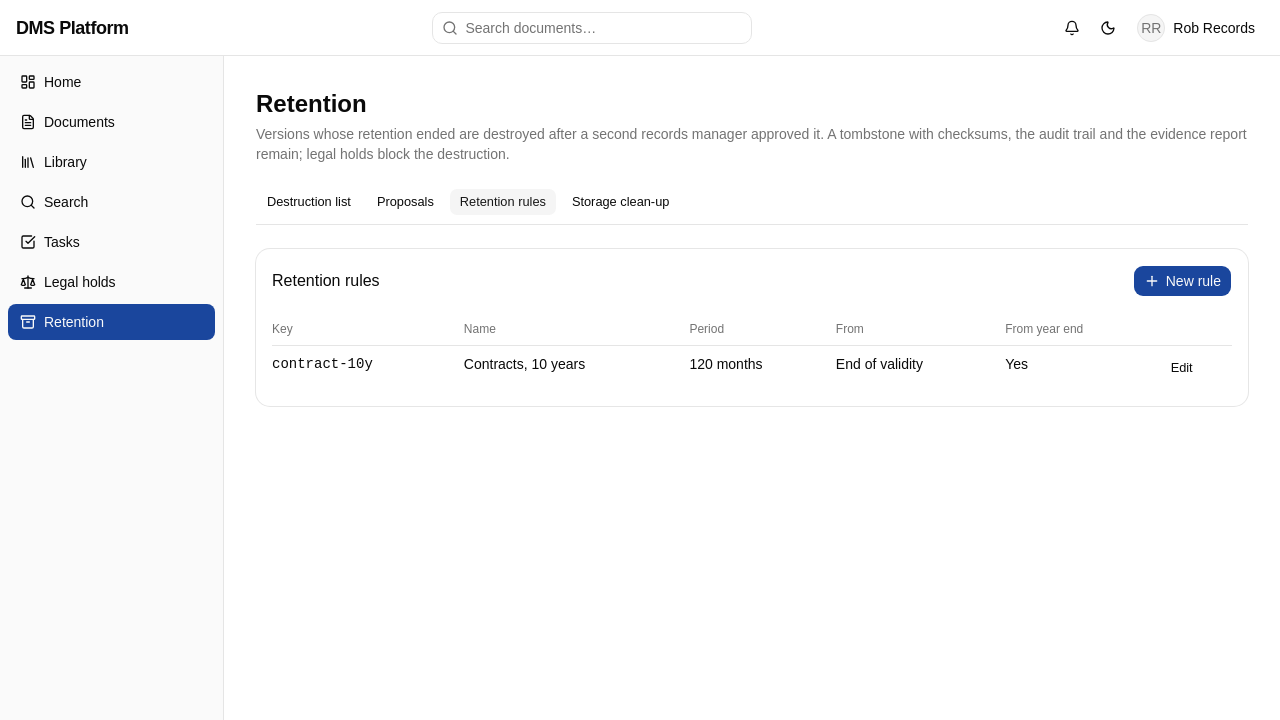
Scenario: retention rules and clean-up › saves a new rule after checking key, name and period
Expected: the cell "contract-10y" is shown, left=272, top=346, right=464, bottom=390
Expected: the cell "120 months" is shown, left=689, top=346, right=836, bottom=390
Click the button "New rule" at (1182, 281), box left=1133, top=265, right=1232, bottom=297
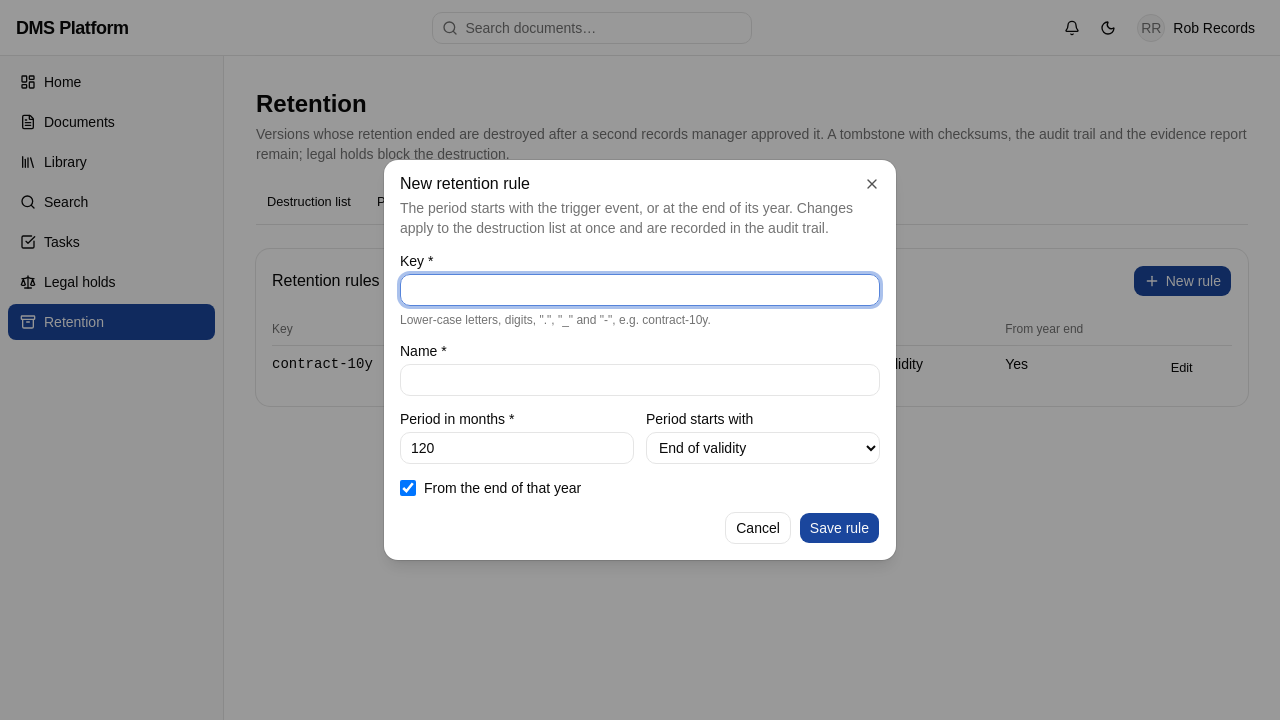
Type "Bad Key" into the field labelled "Key *" at (640, 290), box left=400, top=274, right=880, bottom=306
Click the button "Save rule" at (839, 528), box left=799, top=512, right=880, bottom=544
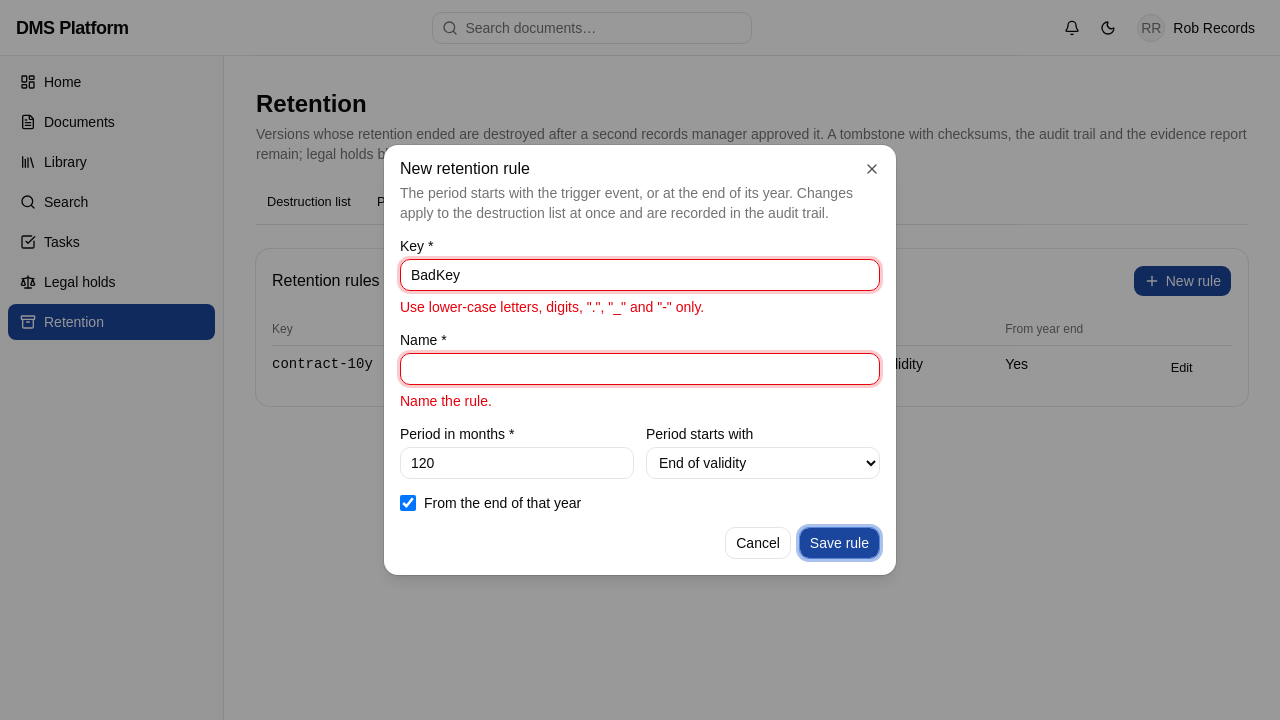
Expected: the text "Use lower-case letters, digits, \".\", \"_\" and \"-\" only." is shown, left=400, top=299, right=704, bottom=315
Expected: the text "Name the rule." is shown, left=400, top=393, right=492, bottom=409
Replace the text in the field labelled "Key *" with "invoice-10y" at (640, 275), box left=400, top=259, right=880, bottom=291
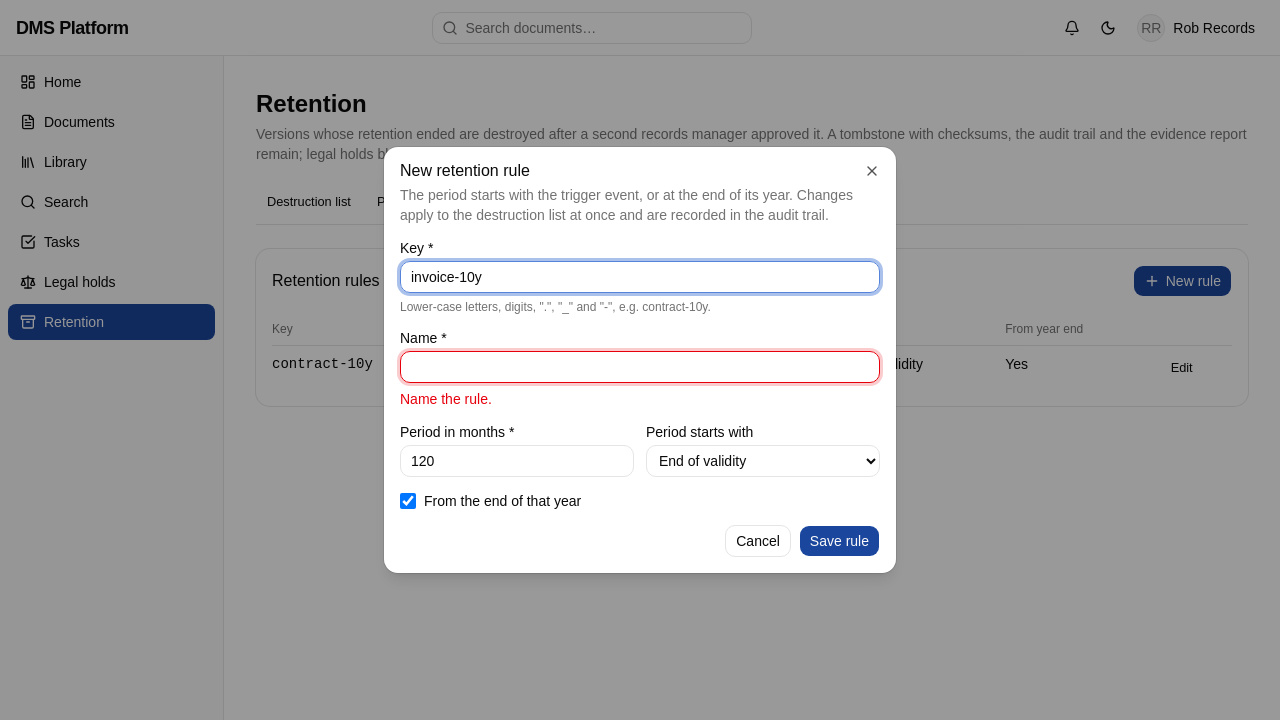
Type "Invoices" into the field labelled "Name *" at (640, 367), box left=400, top=351, right=880, bottom=383
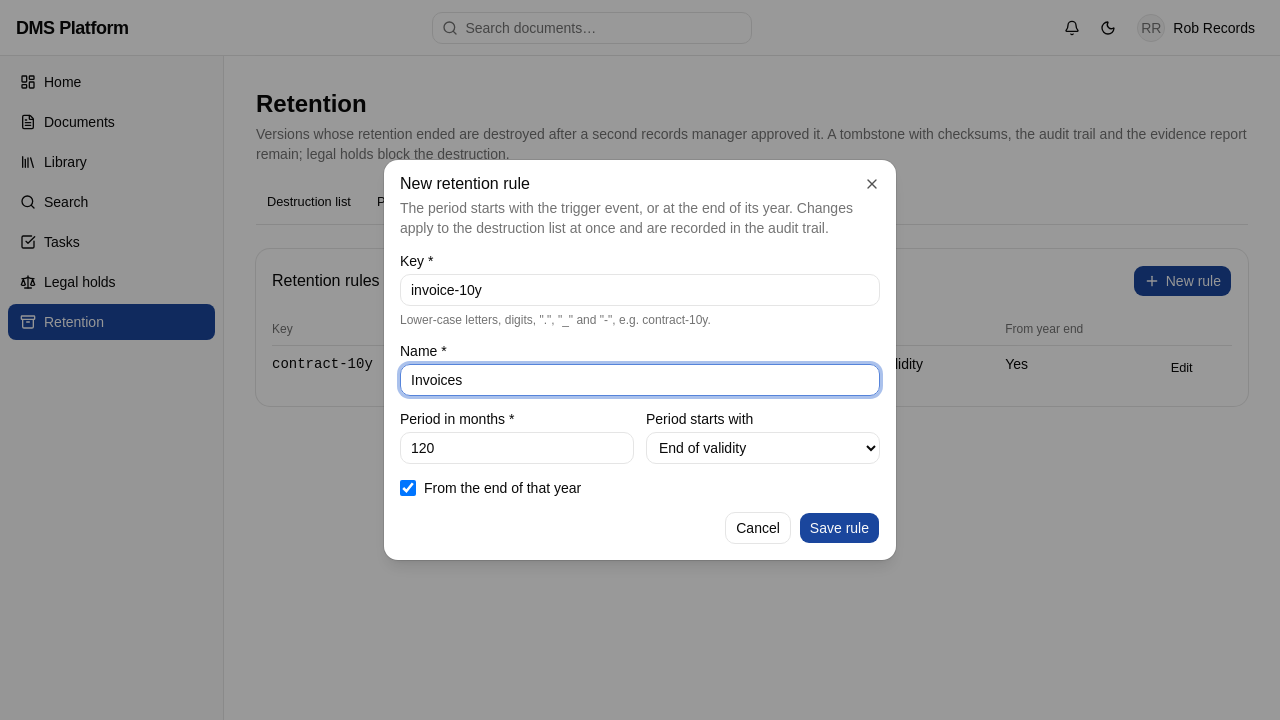
Select "Creation of the document" in the dropdown labelled "Period starts with" at (763, 448), box left=646, top=432, right=880, bottom=464
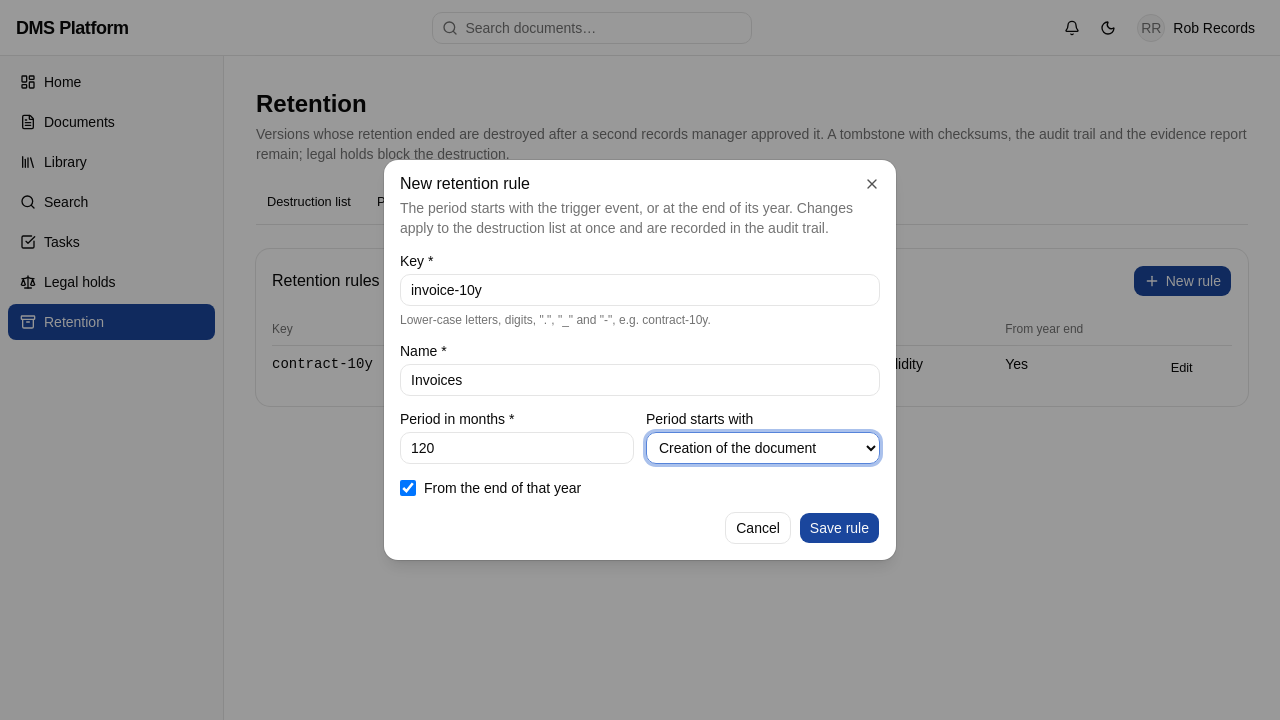
Click the button "Save rule" at (839, 528), box left=799, top=512, right=880, bottom=544
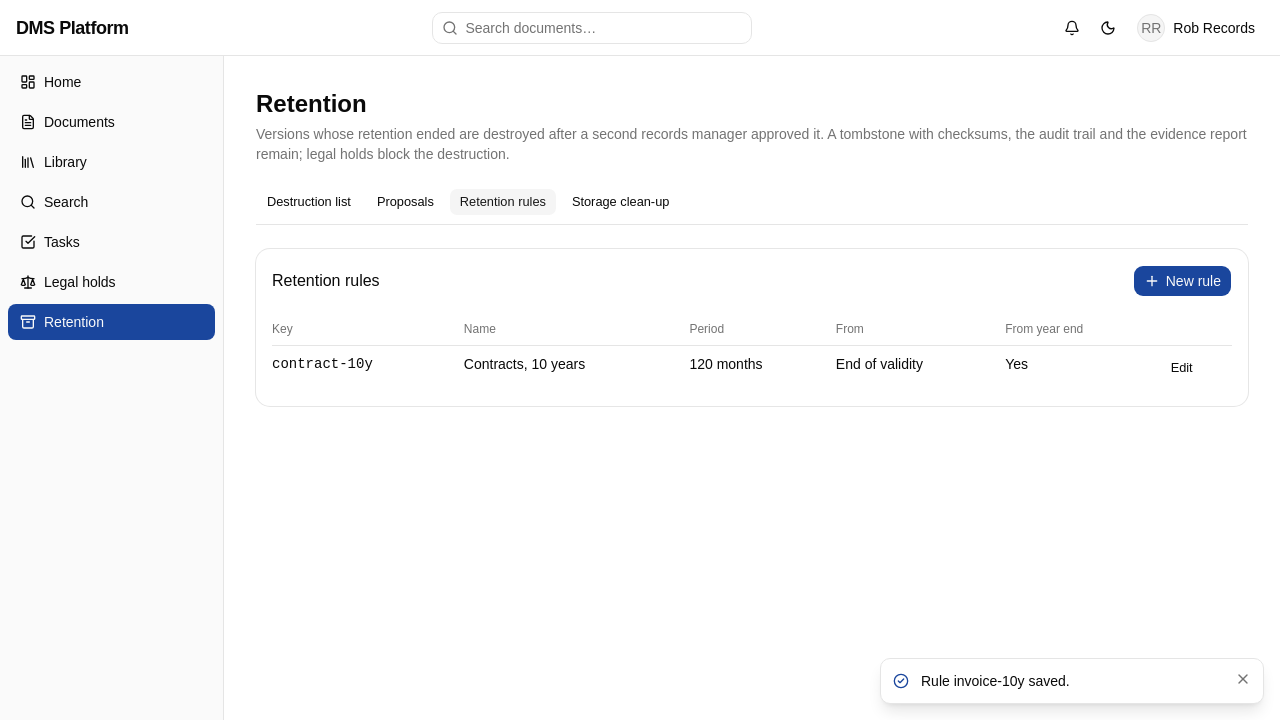
Expected: the text "Rule invoice-10y saved." is shown, left=921, top=673, right=1070, bottom=689
